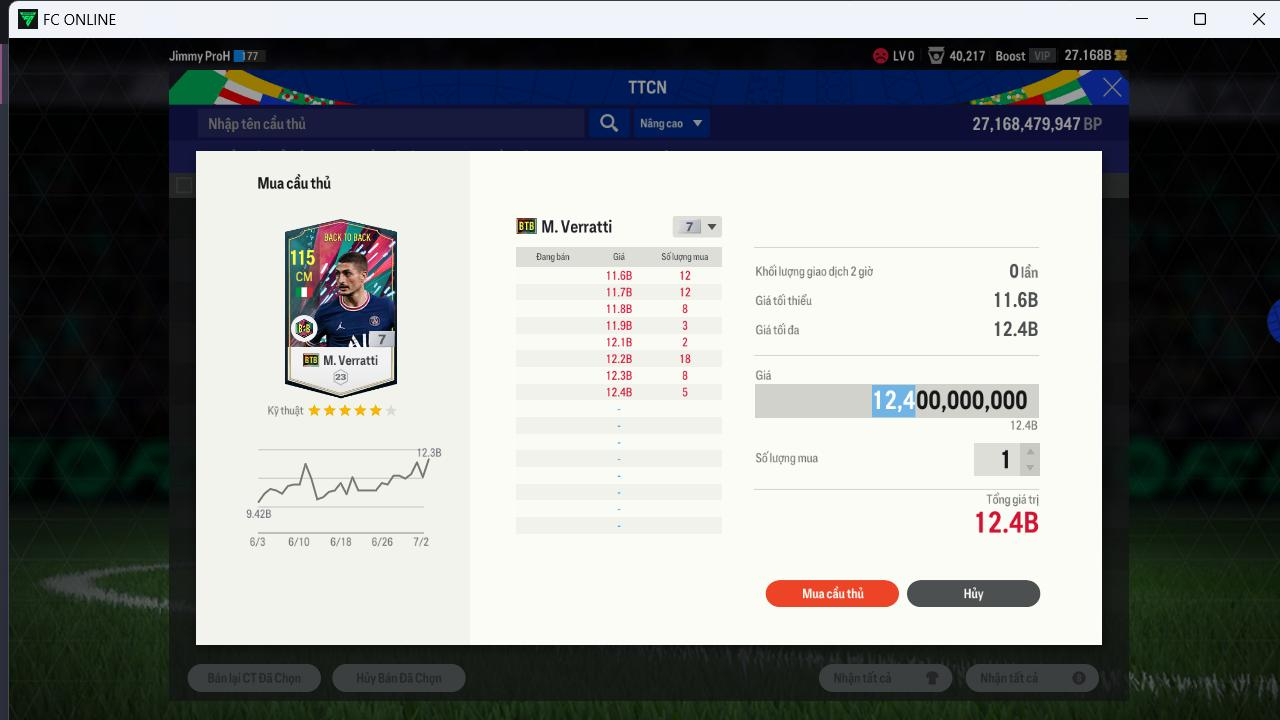buttonhuy: (907, 578, 1042, 610)
buttonmua: (765, 579, 898, 609)
max: (984, 316, 1046, 342)
min: (989, 285, 1044, 313)
